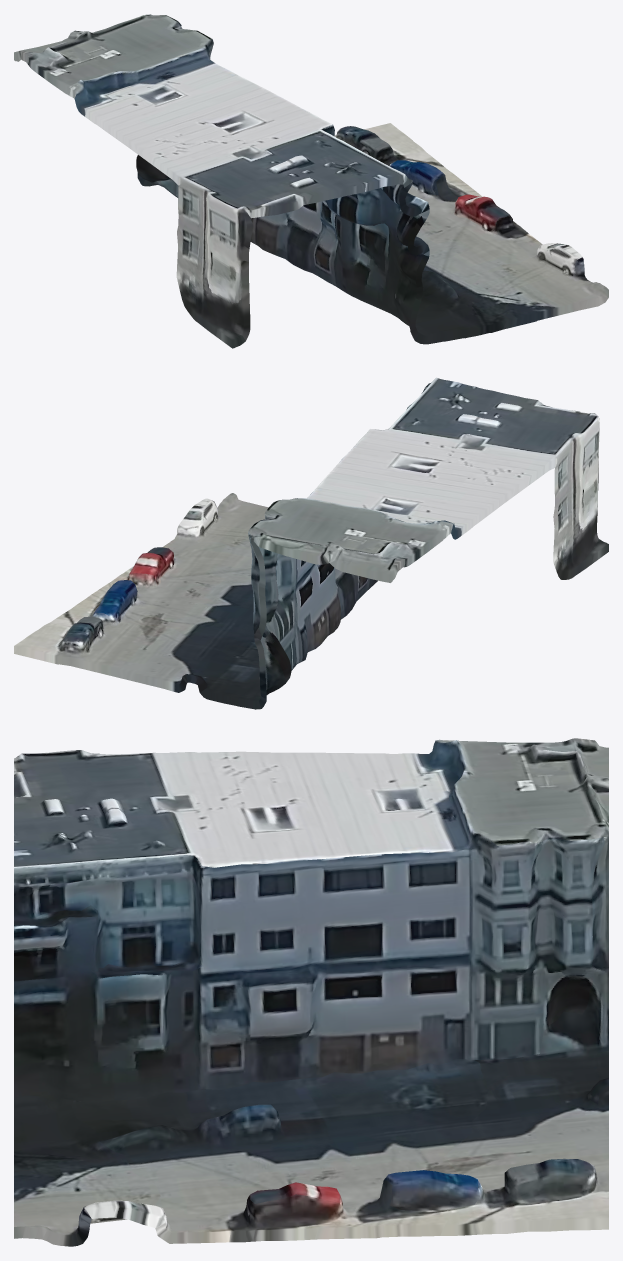
File: z20-167733-405197-h0-yup-uvflip-v3-world.glb
3 views of the same model, one above another, from view 1: azimuth 30°, elevation 25°; view 2: azimuth 150°, elevation 25°; view 3: azimuth 270°, elevation 25° (orthographic). The views are drawn at different scales.
Size of the model in its own units: 30.16 by 14.92 by 30.32.
Materials: 1 (1 with a texture image).
